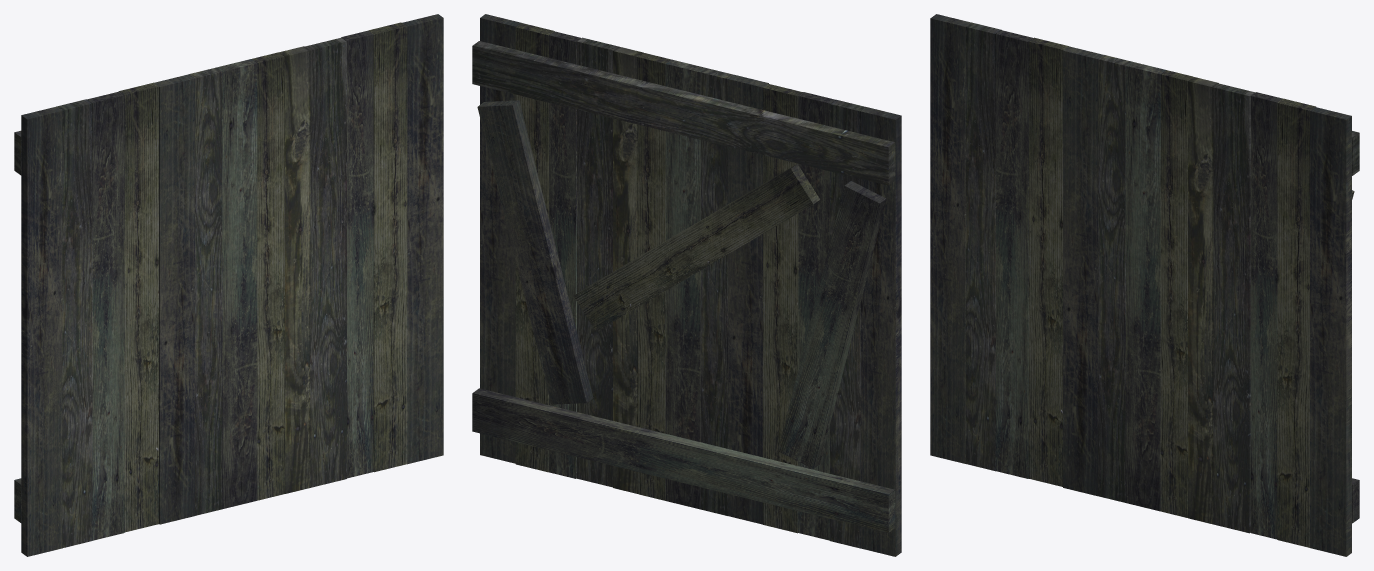
Rendered from OldSmallWoodenWall 3m.fbx.
3 views of the same model, side by side, from view 1: azimuth 30°, elevation 25°; view 2: azimuth 150°, elevation 25°; view 3: azimuth 330°, elevation 25° (orthographic).
Visible parts, largest first — view 1: OldSmallWoodenWall_3m; view 2: OldSmallWoodenWall_3m; view 3: OldSmallWoodenWall_3m.
Part boxes in pixels (x1,y1,x2,y2): OldSmallWoodenWall_3m: (14,14,443,556); OldSmallWoodenWall_3m: (472,14,901,556); OldSmallWoodenWall_3m: (930,14,1359,556).
Size of the model in its own units: 3 by 3.01 by 0.1628.
